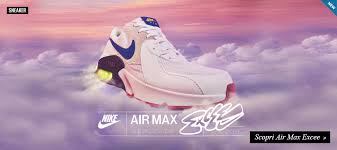nike: (104, 34, 141, 63), (92, 117, 123, 134)
